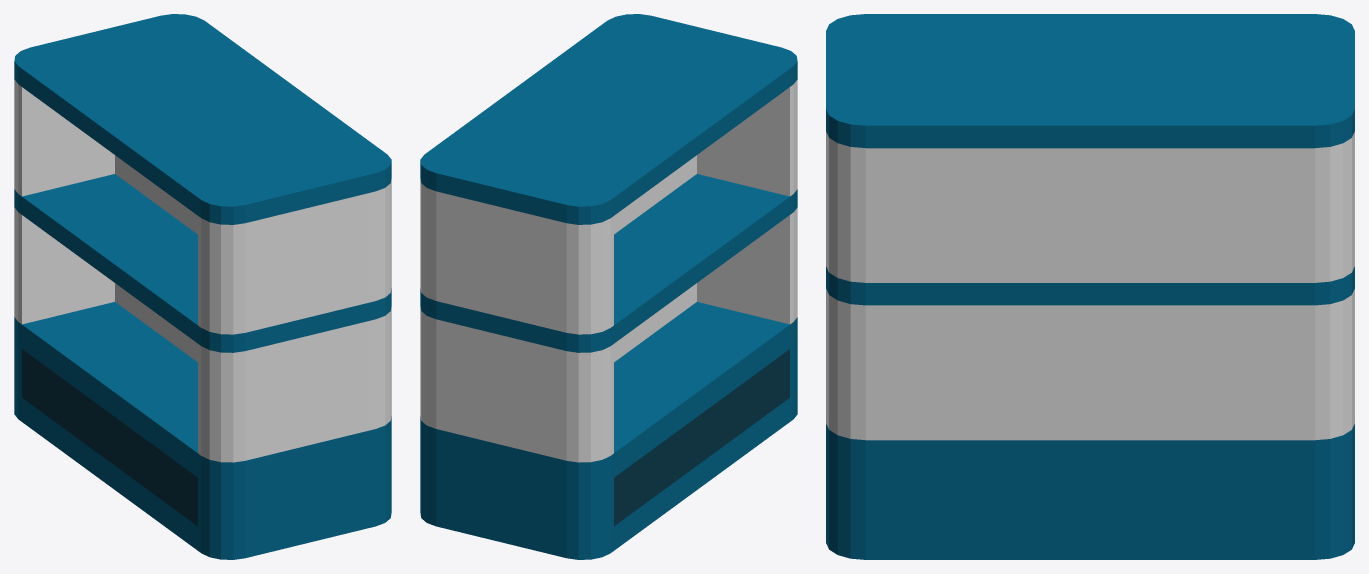
Rendered from G01_022_ShelfC.fbx.
The picture shows the model from 3 angles, left to right: view 1: azimuth 30°, elevation 25°; view 2: azimuth 150°, elevation 25°; view 3: azimuth 270°, elevation 25°; orthographic projection. The views are drawn at different scales.
Visible parts, largest first — view 1: 012_Cage_02_B, 立方体.069, 立方体.072; view 2: 012_Cage_02_B, 立方体.069, 立方体.072; view 3: 012_Cage_02_B, 立方体.069.
Boxes of the visible parts, x1,y1,x2,y2 form: 012_Cage_02_B: (14,14,391,462); 立方体.069: (14,317,391,559); 立方体.072: (22,349,197,526); 012_Cage_02_B: (420,14,797,462); 立方体.069: (420,317,797,559); 立方体.072: (614,349,789,526); 012_Cage_02_B: (826,14,1354,440); 立方体.069: (826,424,1354,559).
Bounding box in the file's own units: 200 × 363 × 400.
